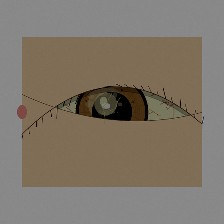corneal_ulcer: (87, 89, 124, 119)
